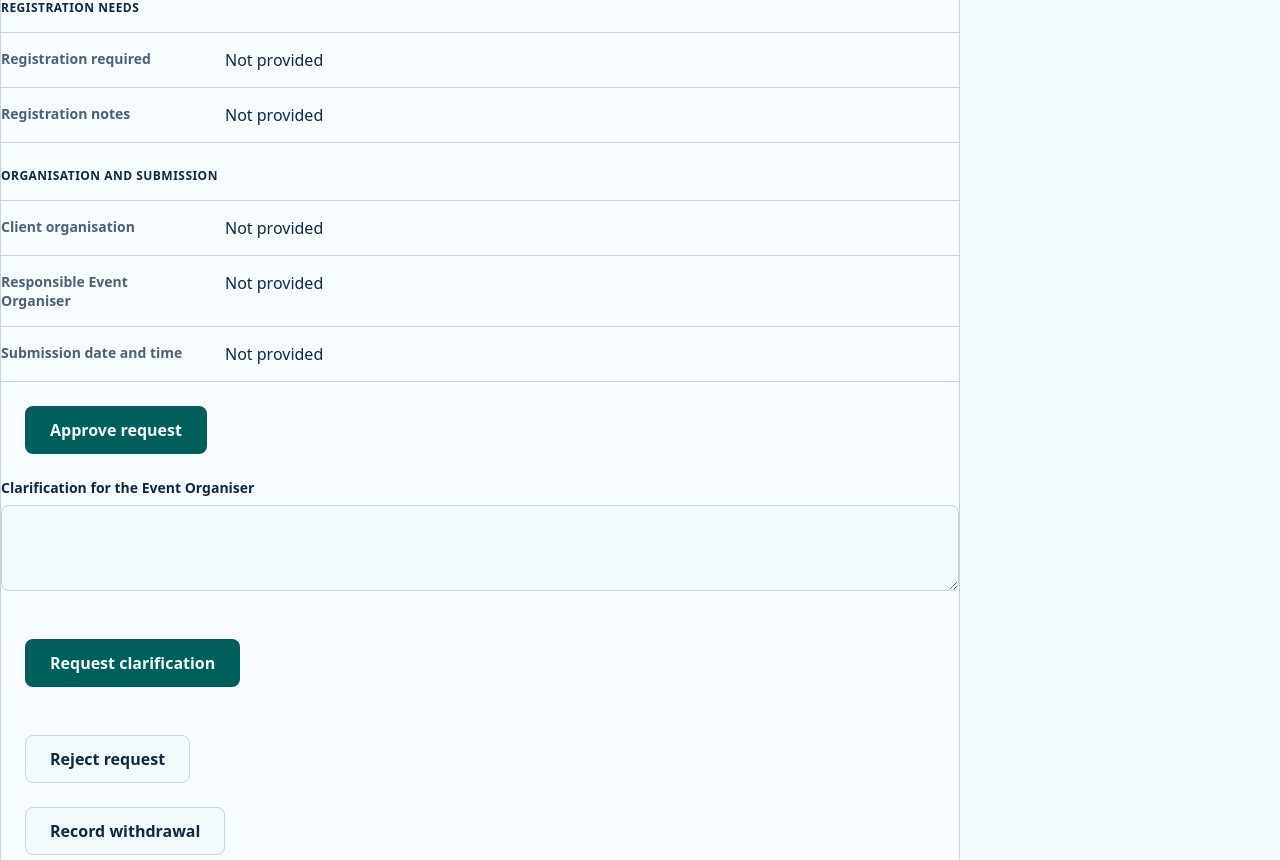
Test case: [QA-SPL-65-075] hides the form and empties nothing else after success
(page scrolled)
Step 1. Type "Why?" into the text box labelled "Clarification for the Event Organiser" → (480, 548), box [1,505,959,591]
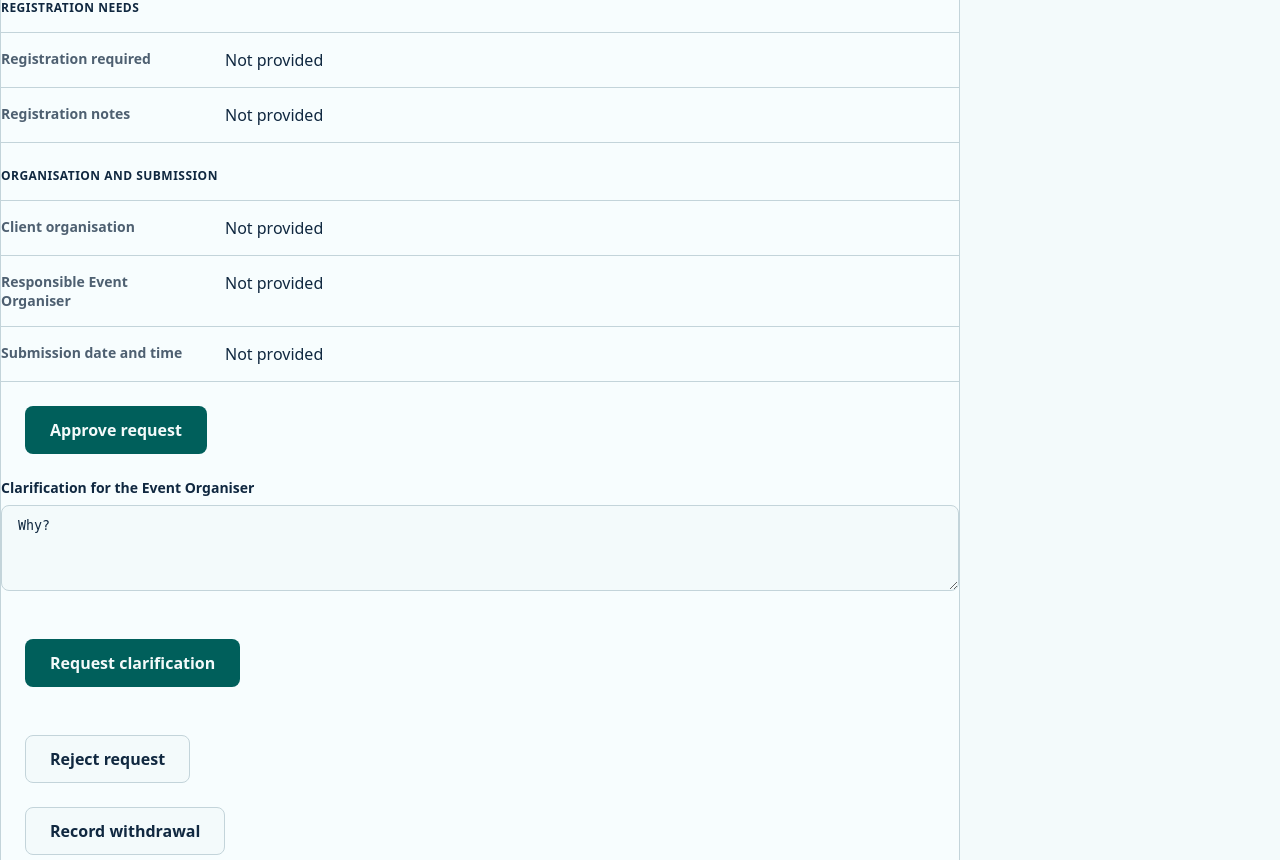
Step 2. Click the button "Request clarification" → (133, 663), box [25,639,240,687]
(page scrolled)
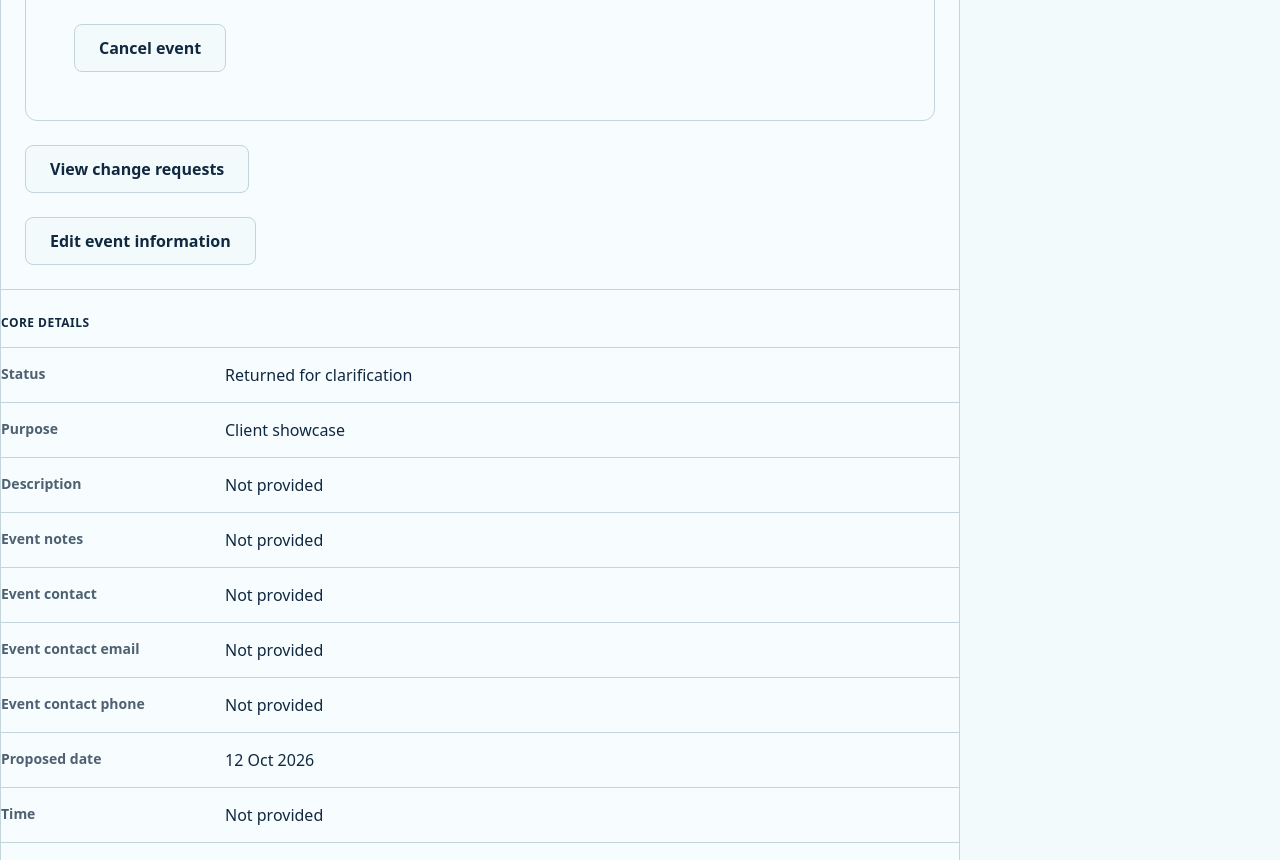
Expected: the text "Client showcase" is shown, [225,403,959,458]
Now the label labelled "Clarification for the Event Organiser" is gone
